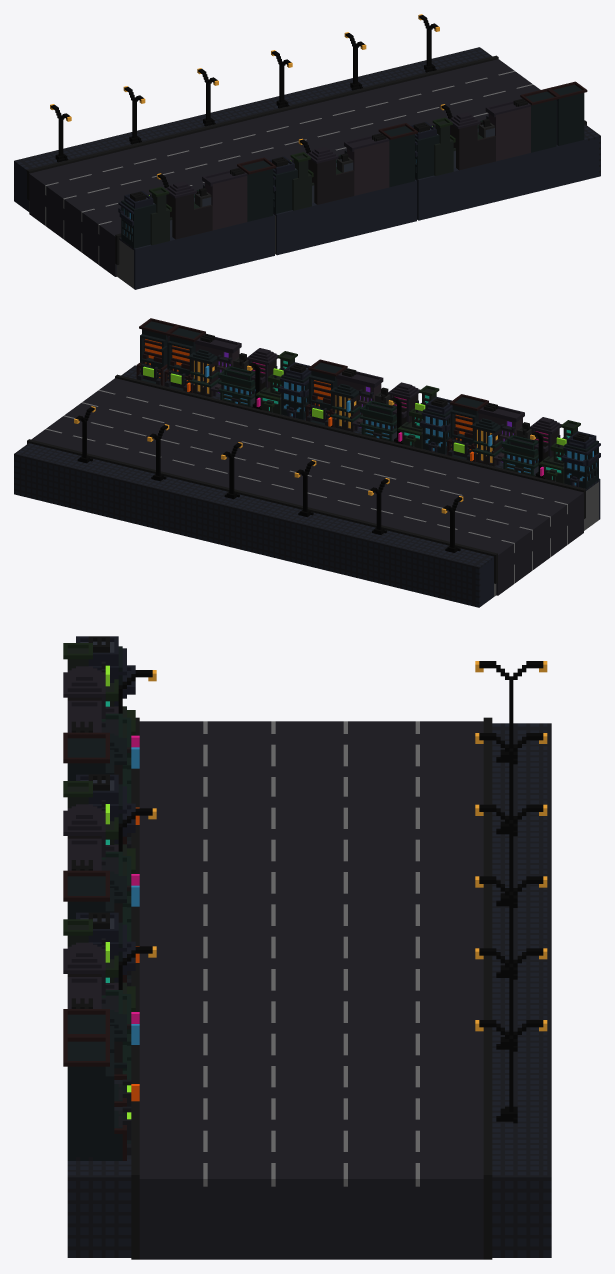
Rendered from Mapa_Noche_1.obj.
The picture shows the model from 3 angles, top to bottom: view 1: azimuth 30°, elevation 25°; view 2: azimuth 150°, elevation 25°; view 3: azimuth 270°, elevation 25°; orthographic projection. The views are drawn at different scales.
Size of the model in its own units: 25.5 by 4.7 by 11.5.
1 material, 1 textured.
